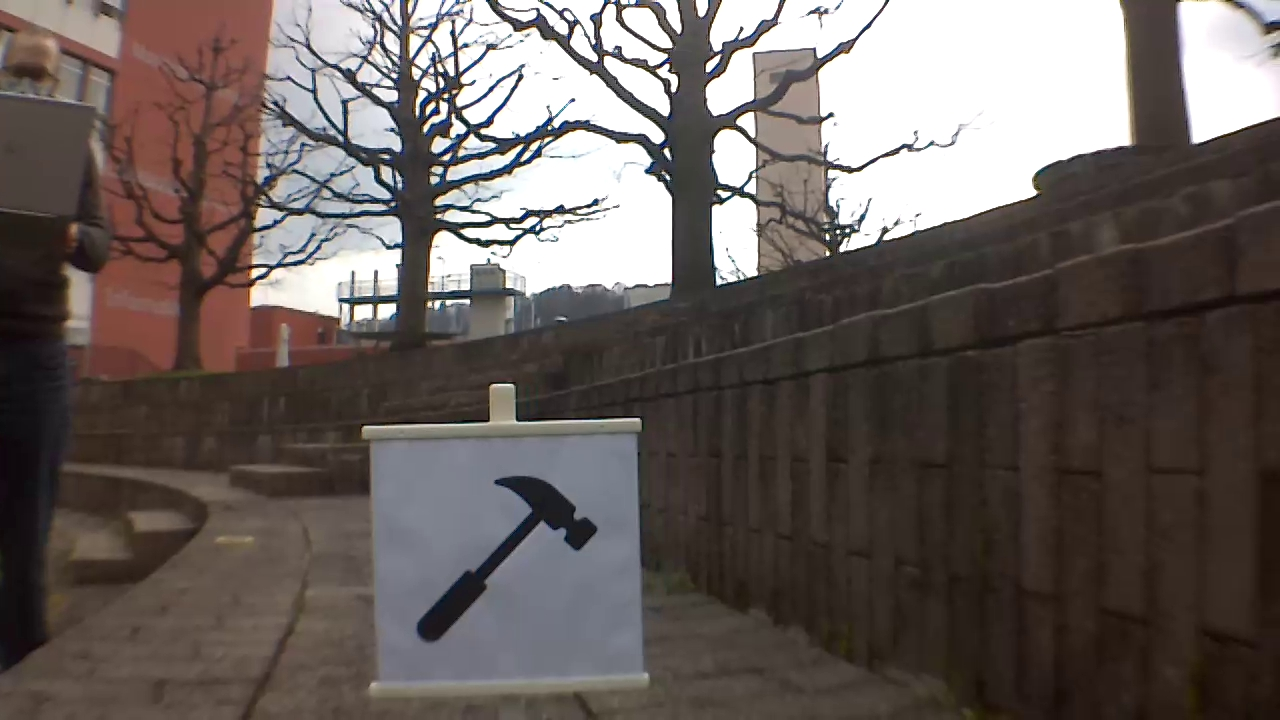hammer: (406, 469, 608, 641)
